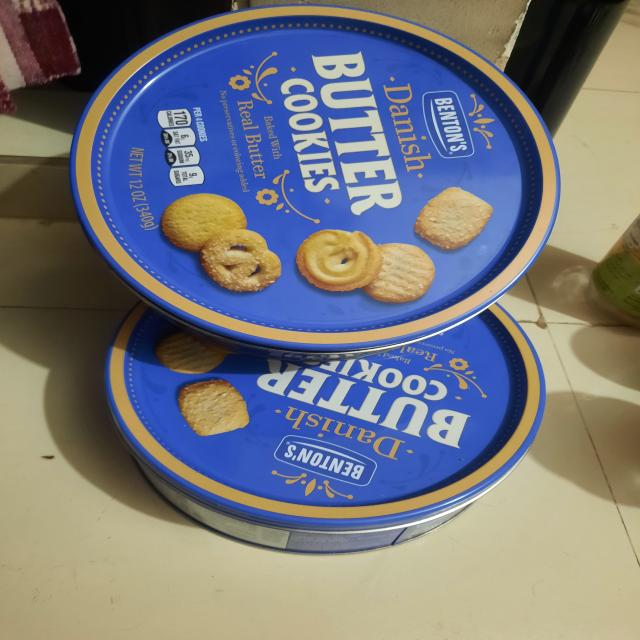can: (64, 15, 640, 586)
